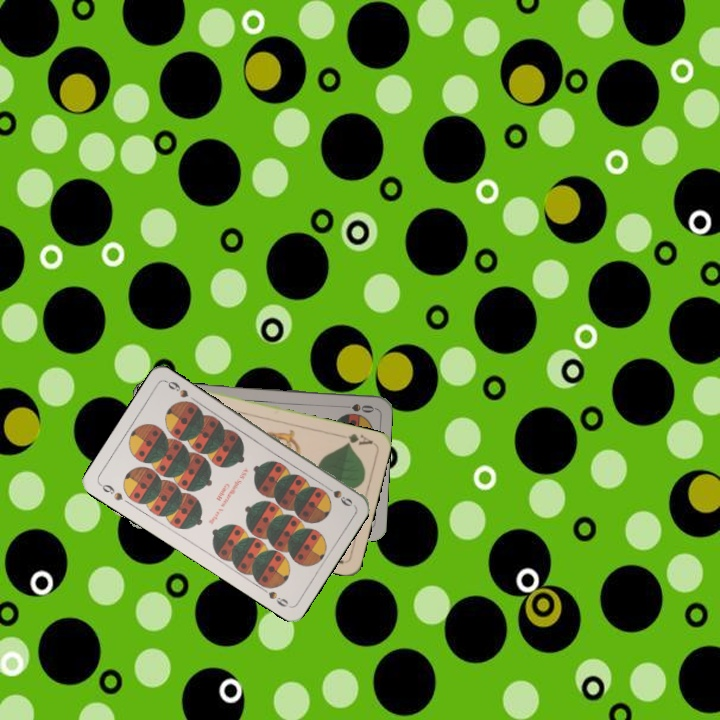GA: (342, 429, 376, 448)
S9: (319, 481, 355, 509), (96, 480, 126, 503)
SO: (336, 400, 376, 415)
